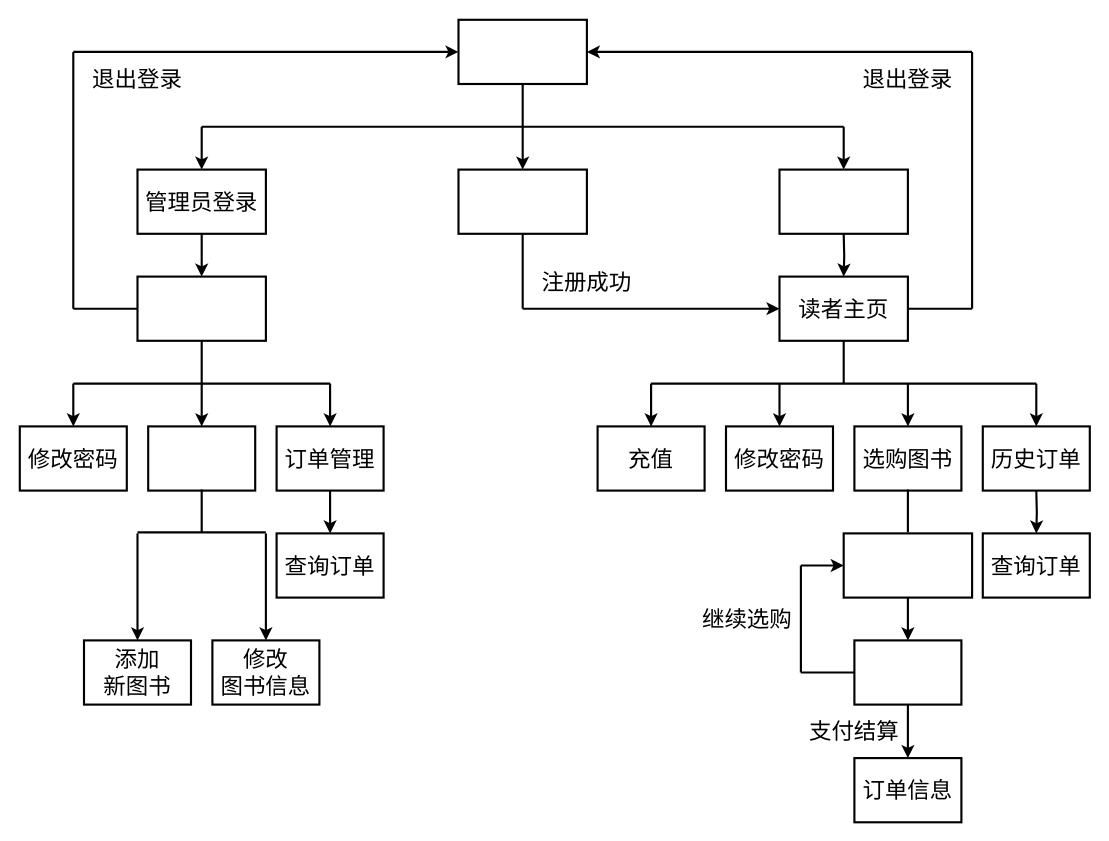
Some shapes in this 1109 by 841 pixel diagram are drawn without their labels. Each missing label, with the box of its shape:
主界面: (457, 18, 587, 85)
图书 加入购物车: (842, 532, 973, 598)
图书管理: (147, 425, 256, 491)
管理员主页: (136, 275, 266, 341)
读者注册: (457, 168, 587, 234)
读者登录: (778, 168, 908, 234)
购物车: (853, 639, 962, 705)
